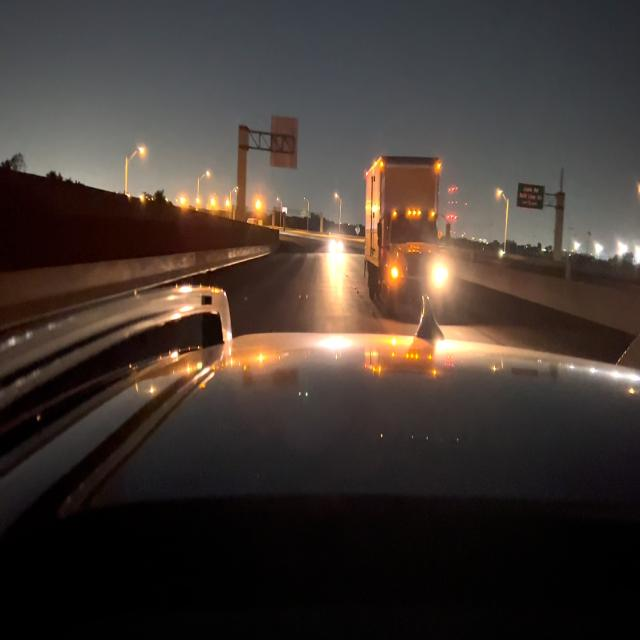back-of-sign: (272, 117, 297, 167)
